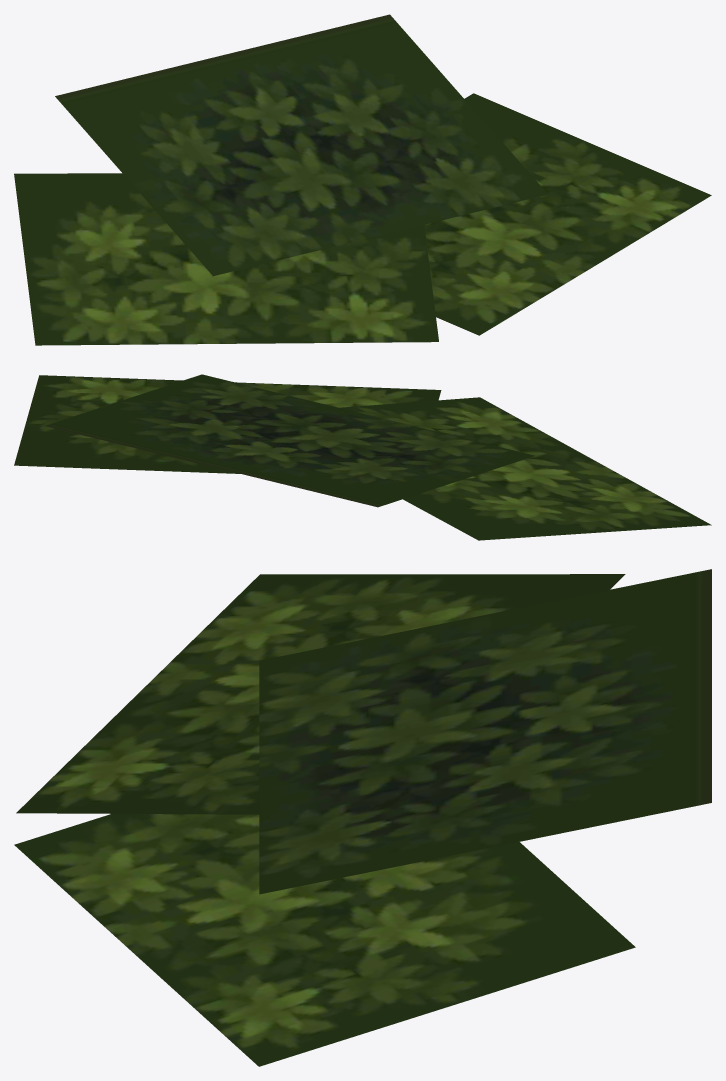
File: dec_Border_Bush_06_57225.glb
The picture shows the model from 3 angles, top to bottom: view 1: azimuth 30°, elevation 25°; view 2: azimuth 150°, elevation 25°; view 3: azimuth 270°, elevation 25°; orthographic projection. The views are drawn at different scales.
Parts seen in each view (by area): view 1: Border_Bush_06_mesh; view 2: Border_Bush_06_mesh; view 3: Border_Bush_06_mesh.
Boxes of the visible parts, x1,y1,x2,y2 form: Border_Bush_06_mesh: (14,14,711,345); Border_Bush_06_mesh: (14,374,711,540); Border_Bush_06_mesh: (14,569,711,1066).
Bounding box in the file's own units: 1.44 × 0.2139 × 0.9027.
Materials: 1 (1 with a texture image).
